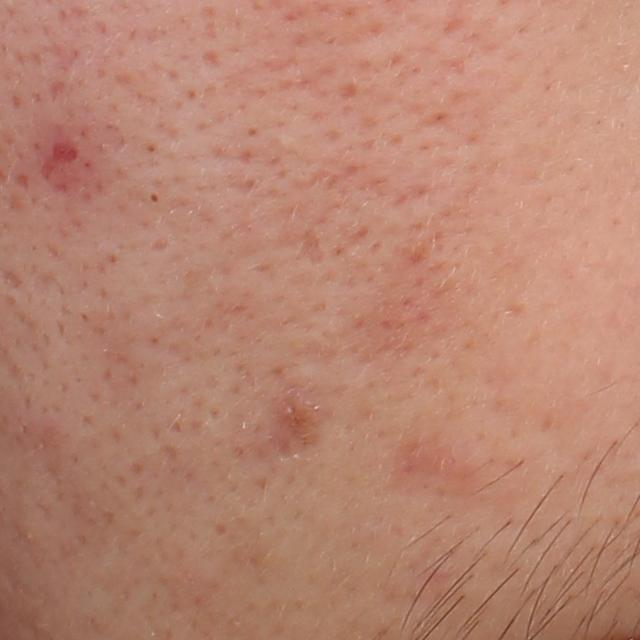atrophic_scar: (296, 224, 328, 267), (47, 140, 78, 164)
comedo: (141, 188, 165, 210)
